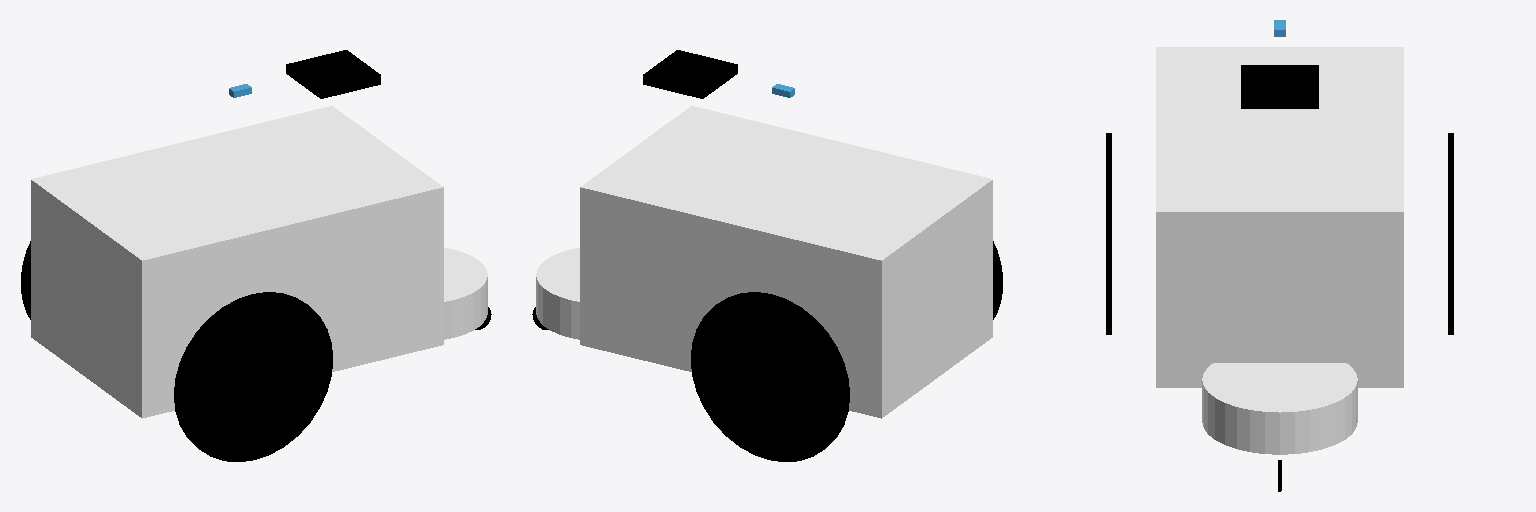
robot.urdf — ardumower_robot:
<robot name="ardumower_robot">

  <link name="base_link">
    <visual>
      <geometry>
        <box size="0.5 0.32 0.25"/>
      </geometry>
      <origin rpy="0 0 0" xyz="0.1 0 0.2"/>
      <material name="white">
        <color rgba="1 1 1 1"/>
      </material>
    </visual>
  </link>

  <link name="imu_link">
      <visual>
            <geometry>
                <box size=".03 .015 .01" />
            </geometry>
            <origin xyz="0 0 0.3" rpy="0 0 0" />
            <material name="orange" />
      </visual>
  </link>

  <joint name="base_to_imu" type="fixed">
    <parent link="base_link"/>
    <child link="imu_link"/>
    <origin xyz="0.105 0 0.17" rpy="0 0 0"/>
  </joint>

  
  <link name="lwheel">
    <visual>
      <geometry>
        <cylinder length="0.008" radius="0.13"/>
      </geometry>
      <origin rpy="0 0 0" xyz="0 0 0"/>
      <material name="black">
        <color rgba="0 0 0 1"/>
      </material>
    </visual>
  </link>
  
  <joint name="base_to_lwheel" type="fixed">
    <parent link="base_link"/>
    <child link="lwheel"/>
    <origin xyz="0 0.22 0.13" rpy="1.5708 0 0"/>
  </joint>
  
  <link name="rwheel">
    <visual>
      <geometry>
        <cylinder length="0.008" radius="0.13"/>
      </geometry>
      <origin rpy="0 0 0" xyz="0 0 0"/>
      <material name="black">
        <color rgba="0 0 0 1"/>
      </material>
    </visual>
  </link>
  
  <joint name="base_to_rwheel" type="fixed">
    <parent link="base_link"/>
    <child link="rwheel"/>
    <origin xyz="0 -0.22 0.13" rpy="-1.5708 0 0"/>
  </joint>
  
  <link name="fwheel_attach">
    <visual>
      <geometry>
        <cylinder length="0.060" radius="0.1"/>
      </geometry>
      <origin rpy="0 0 0" xyz="0.4 0 0.08"/>
      <material name="white">
        <color rgba="1 1 1 1"/>
      </material>
    </visual>
  </link>
  
  <joint name="base_to_fattach" type="fixed">
    <parent link="base_link"/>
    <child link="fwheel_attach"/>
    <origin xyz="0 0 0" rpy="0 0 0"/>
  </joint>
  
  <link name="fwheel">
    <visual>
      <geometry>
        <cylinder length="0.005" radius="0.020"/>
      </geometry>
      <origin rpy="1.578 0 0" xyz="0 0 0"/>
      <material name="black">
        <color rgba="0 0 0 1"/>
      </material>
    </visual>
  </link>
  
  <joint name="base_to_fwheel" type="fixed">
    <parent link="base_link"/>
    <child link="fwheel"/>
    <origin xyz="0.5 0 0.02" rpy="0 0 0"/>
  </joint>
  
  <link name="scanner">
    <visual>
      <geometry>
        <box size="0.1 0.1 0.015"/>
      </geometry>
      <origin rpy="0 0 0" xyz="0.0 0 0"/>
      <material name="black">
        <color rgba="0 0 0 1"/>
      </material>
    </visual>
  </link>
  
  <joint name="base_to_scanner" type="fixed">
    <parent link="base_link"/>
    <child link="scanner"/>
    <origin xyz="0.26 0 0.46" rpy="0 0 1.57"/>
  </joint>
  
</robot>

--- Render facts (derived) ---
Views: 3 orthographic renders of the robot side by side, from view 1: azimuth 30°, elevation 25°; view 2: azimuth 150°, elevation 25°; view 3: azimuth 270°, elevation 25°.
Model ardumower_robot with 7 links and 6 joints (6 fixed), rooted at base_link, posed all joints at 0.
Visible links, largest first — view 1: base_link, rwheel, fwheel_attach, scanner, lwheel; view 2: base_link, lwheel, fwheel_attach, scanner, rwheel; view 3: base_link, fwheel_attach, scanner, lwheel, rwheel.
Boxes of the visible links, box(x1,y1,x2,y2) form: base_link: box(31, 106, 443, 418); rwheel: box(174, 292, 332, 461); fwheel_attach: box(444, 248, 487, 339); scanner: box(286, 50, 380, 98); lwheel: box(21, 241, 30, 319); base_link: box(580, 106, 992, 418); lwheel: box(691, 292, 849, 461); fwheel_attach: box(536, 248, 579, 339); scanner: box(643, 50, 737, 98); rwheel: box(993, 241, 1002, 319); base_link: box(1156, 47, 1403, 387); fwheel_attach: box(1202, 363, 1357, 454); scanner: box(1241, 65, 1318, 108); lwheel: box(1448, 133, 1453, 334); rwheel: box(1106, 133, 1111, 334).
Size in the robot's own frame: 0.67 by 0.448 by 0.475 metres.
Geometry: primitives only (box / cylinder / sphere), no mesh files.